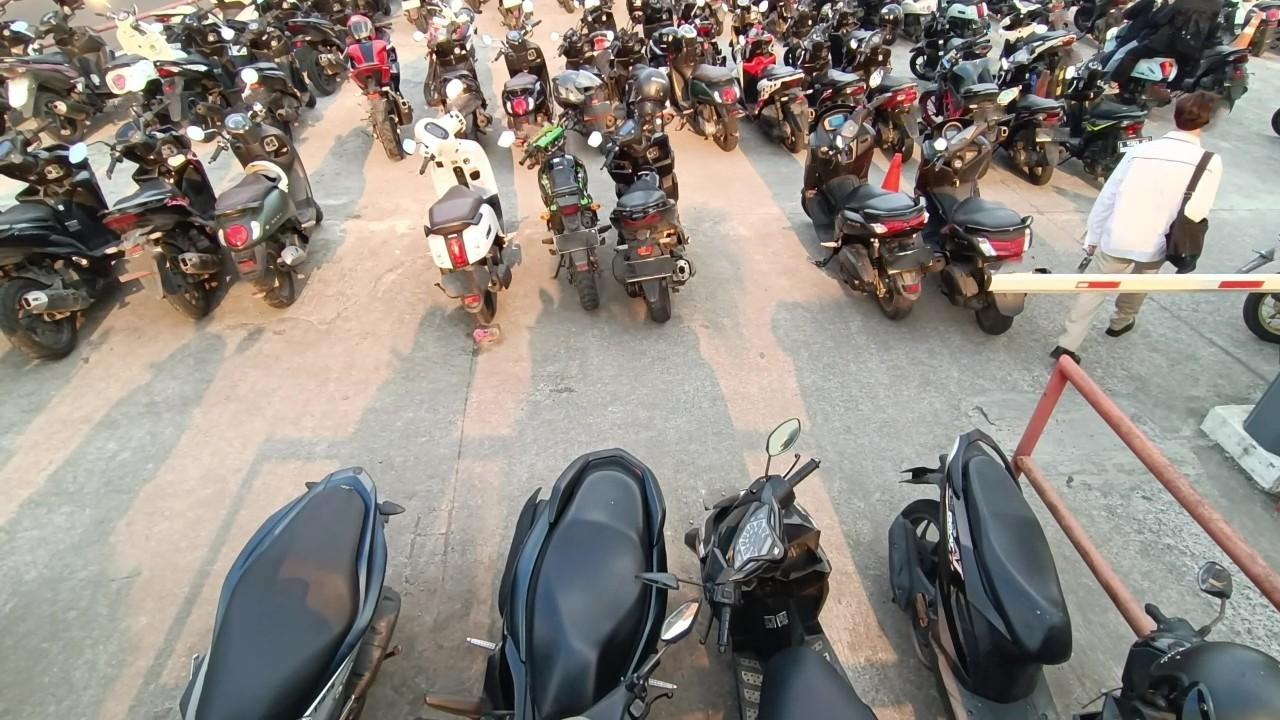motorcycle: (893, 427, 1280, 720), (441, 441, 697, 720), (656, 414, 881, 720), (171, 467, 404, 720), (73, 99, 231, 330), (807, 72, 944, 325), (918, 89, 1049, 342), (0, 82, 116, 365), (400, 80, 516, 346), (196, 74, 325, 313), (500, 74, 614, 319), (588, 74, 698, 327), (1, 0, 116, 143), (1058, 26, 1150, 187), (219, 0, 321, 144), (332, 8, 417, 167), (737, 0, 821, 158), (656, 0, 744, 150), (91, 0, 191, 130), (144, 0, 236, 141), (847, 3, 925, 161), (993, 26, 1071, 182), (412, 0, 493, 148), (549, 0, 620, 165), (790, 0, 866, 153), (921, 43, 1004, 175), (484, 2, 556, 151), (607, 0, 675, 154), (1099, 6, 1180, 115), (281, 0, 371, 92)
